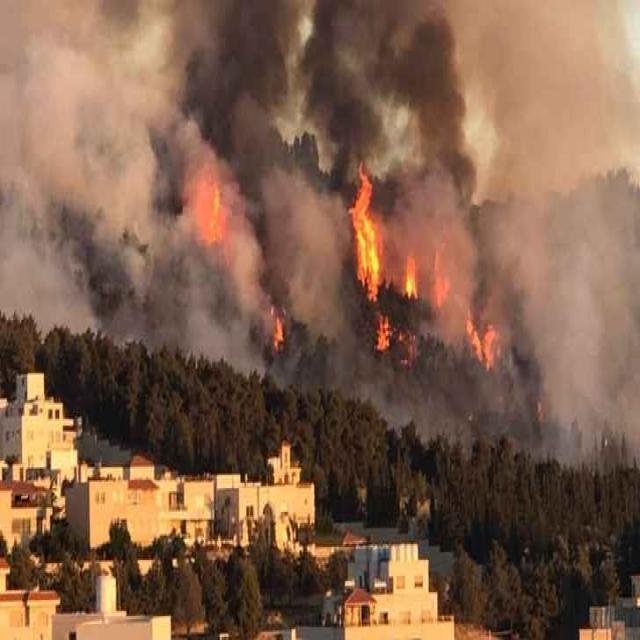Fire: (348, 141, 388, 313), (464, 304, 506, 374), (424, 230, 456, 308), (202, 175, 228, 248), (398, 241, 422, 304), (265, 298, 291, 356), (374, 312, 392, 358)
Smoke: (0, 0, 364, 384), (284, 0, 544, 455), (446, 0, 640, 467)
